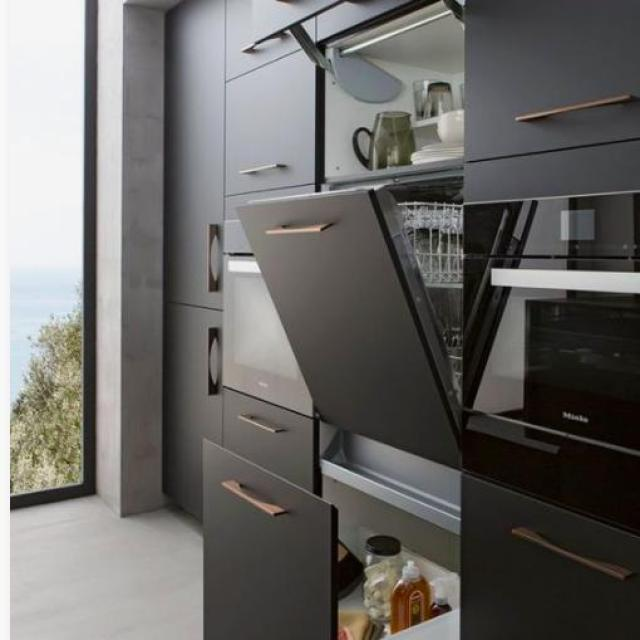dishwasher: (234, 166, 473, 478)
